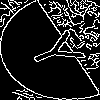Y: (25, 25, 98, 75)
